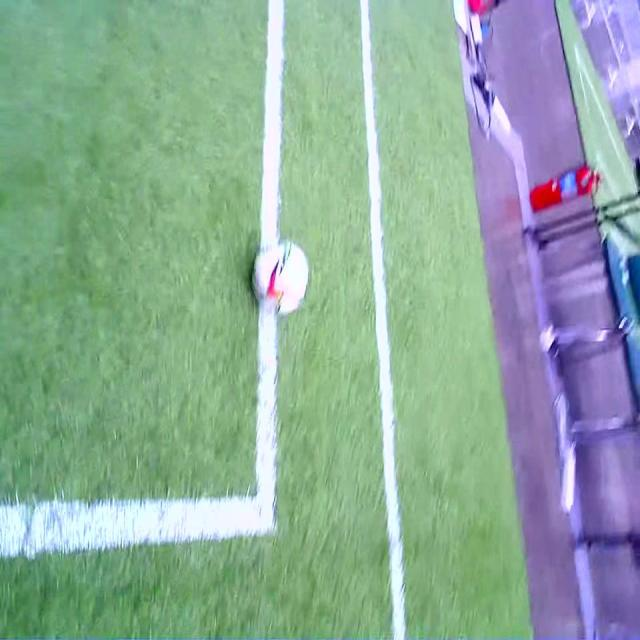ball: (255, 240, 310, 318)
